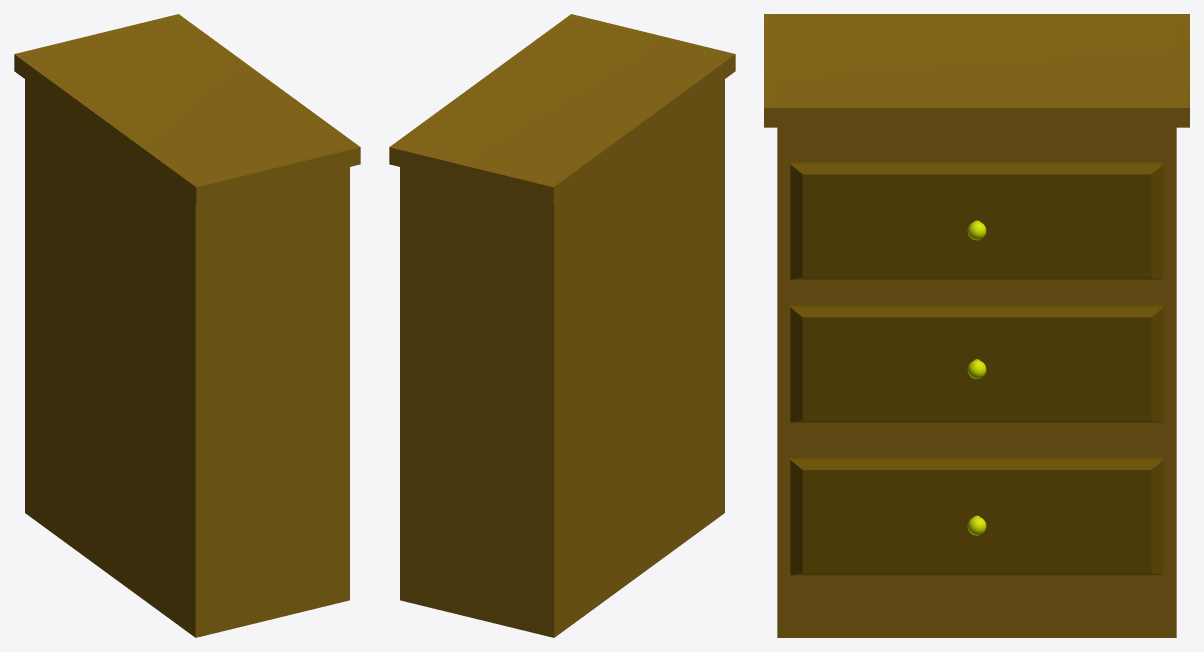
File: Dresser.fbx
The picture shows the model from 3 angles, left to right: view 1: azimuth 30°, elevation 25°; view 2: azimuth 150°, elevation 25°; view 3: azimuth 270°, elevation 25°; orthographic projection. The views are drawn at different scales.
Visible parts, largest first — view 1: polySurface7; view 2: polySurface7; view 3: polySurface7.
Boxes of the visible parts, x1,y1,x2,y2 form: polySurface7: (14, 14, 360, 637); polySurface7: (389, 14, 735, 637); polySurface7: (764, 14, 1189, 637).
Bounding box in the file's own units: 1.16 × 2.68 × 1.94.
